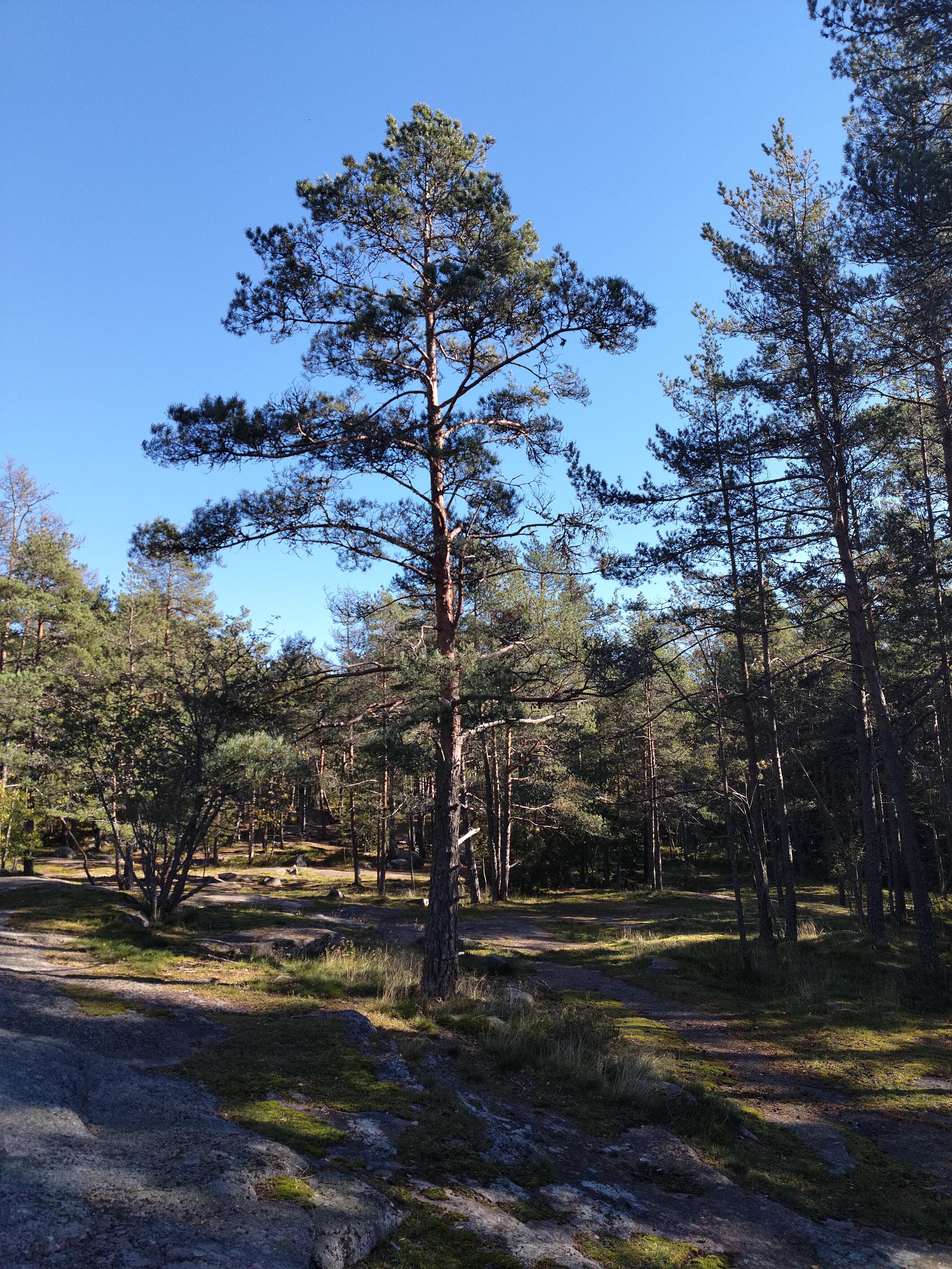Pine: (133, 100, 659, 1000)
